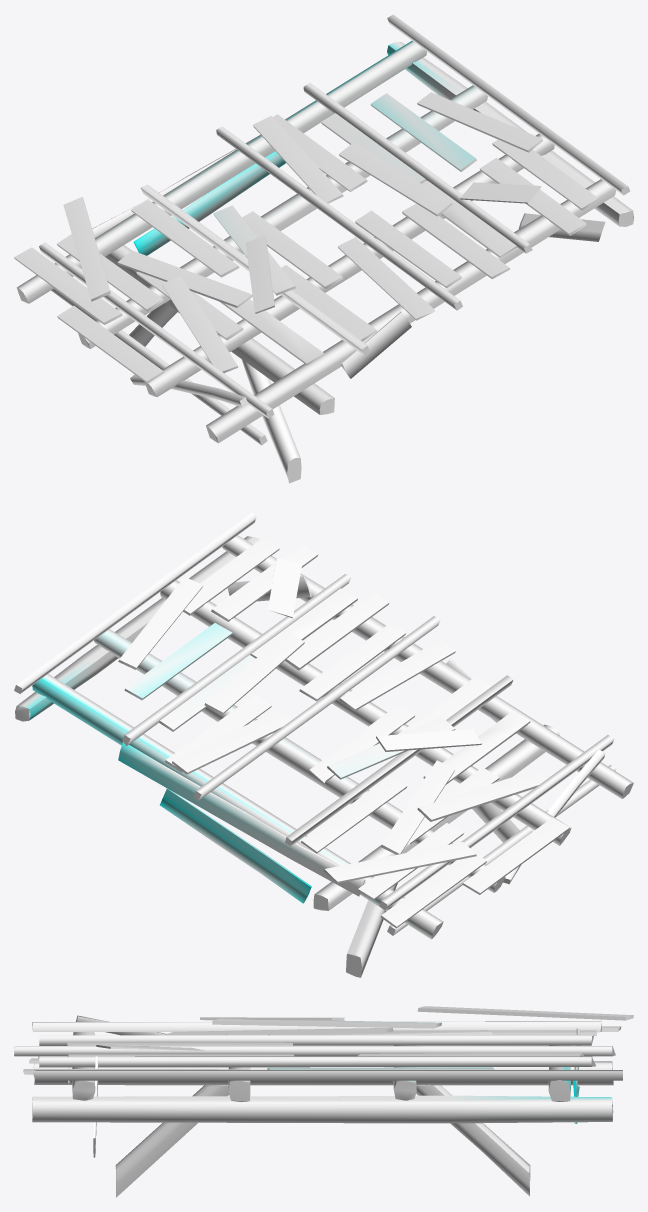
The model's file is SM_MillShed_01c.FBX.
The picture shows the model from 3 angles, top to bottom: view 1: azimuth 30°, elevation 25°; view 2: azimuth 150°, elevation 25°; view 3: azimuth 270°, elevation 25°; orthographic projection. The views are drawn at different scales.
Parts seen in each view (by area): view 1: SM_MillShed_01c_LOD0; view 2: SM_MillShed_01c_LOD0; view 3: SM_MillShed_01c_LOD0.
Boxes of the visible parts, bbox=[...] form: SM_MillShed_01c_LOD0: bbox=[14, 14, 633, 483]; SM_MillShed_01c_LOD0: bbox=[14, 512, 633, 977]; SM_MillShed_01c_LOD0: bbox=[14, 1006, 633, 1197].
Size of what is drawn, in the model's own units: 566 by 598 by 329.
